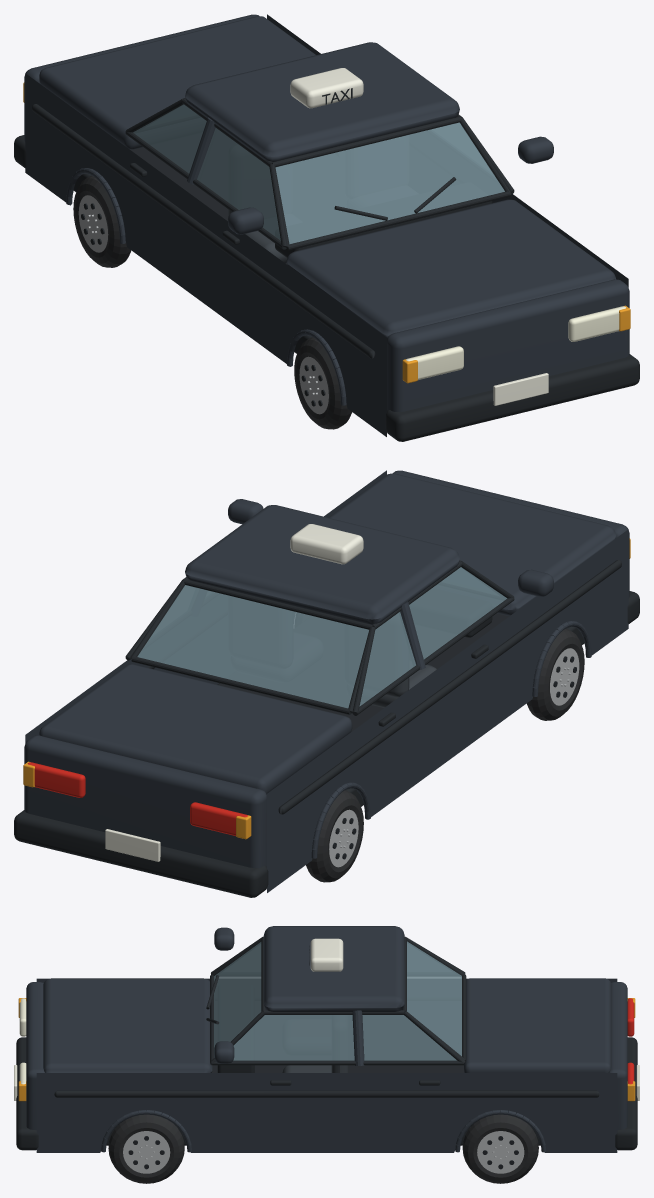
Rendered from sedan.glb.
The picture shows the model from 3 angles, top to bottom: view 1: azimuth 30°, elevation 25°; view 2: azimuth 150°, elevation 25°; view 3: azimuth 270°, elevation 25°; orthographic projection. The views are drawn at different scales.
Parts seen in each view (by area): view 1: Chapa lateral, Cristal real, Bastidor, Placa, Faro delantero, Torus.004, Torus.006, Cylinder, Cylinder.037, Senal de giro; view 2: Chapa lateral, Cristal real, Bastidor, Placa, Faro trasero, Torus.006, Torus.004, Cylinder.037, Cylinder, Asiento delantero, Senal de giro; view 3: Chapa lateral, Cristal real, Bastidor, Torus.007, Torus.005, Cylinder.013, Cylinder.030, Placa, Asiento delantero, Faro delantero, Faro trasero, Senal de giro.
Part boxes in pixels (<box>): Chapa lateral: <box>24,14,629,436</box>; Cristal real: <box>133,104,504,244</box>; Bastidor: <box>14,88,639,441</box>; Placa: <box>290,68,548,405</box>; Faro delantero: <box>406,306,626,379</box>; Torus.004: <box>294,337,351,429</box>; Torus.006: <box>73,175,131,267</box>; Cylinder: <box>299,356,328,414</box>; Cylinder.037: <box>78,195,108,252</box>; Senal de giro: <box>23,82,630,383</box>; Chapa lateral: <box>24,470,629,892</box>; Cristal real: <box>137,567,507,708</box>; Bastidor: <box>14,560,639,897</box>; Placa: <box>105,524,363,861</box>; Faro trasero: <box>27,762,247,835</box>; Torus.006: <box>306,790,363,882</box>; Torus.004: <box>526,628,584,720</box>; Cylinder.037: <box>329,809,358,867</box>; Cylinder: <box>550,648,579,705</box>; Asiento delantero: <box>372,664,436,707</box>; Senal de giro: <box>23,538,630,839</box>; Chapa lateral: <box>26,926,627,1152</box>; Cristal real: <box>214,941,461,1060</box>; Bastidor: <box>16,936,637,1150</box>; Torus.007: <box>462,1114,538,1183</box>; Torus.005: <box>108,1114,184,1183</box>; Cylinder.013: <box>123,1131,170,1173</box>; Cylinder.030: <box>477,1131,524,1173</box>; Placa: <box>14,938,639,1100</box>; Asiento delantero: <box>282,1065,348,1072</box>; Faro delantero: <box>19,998,26,1084</box>; Faro trasero: <box>627,998,634,1084</box>; Senal de giro: <box>18,998,635,1101</box>.
Size of the model in its own units: 2.25 by 1.59 by 4.75.
